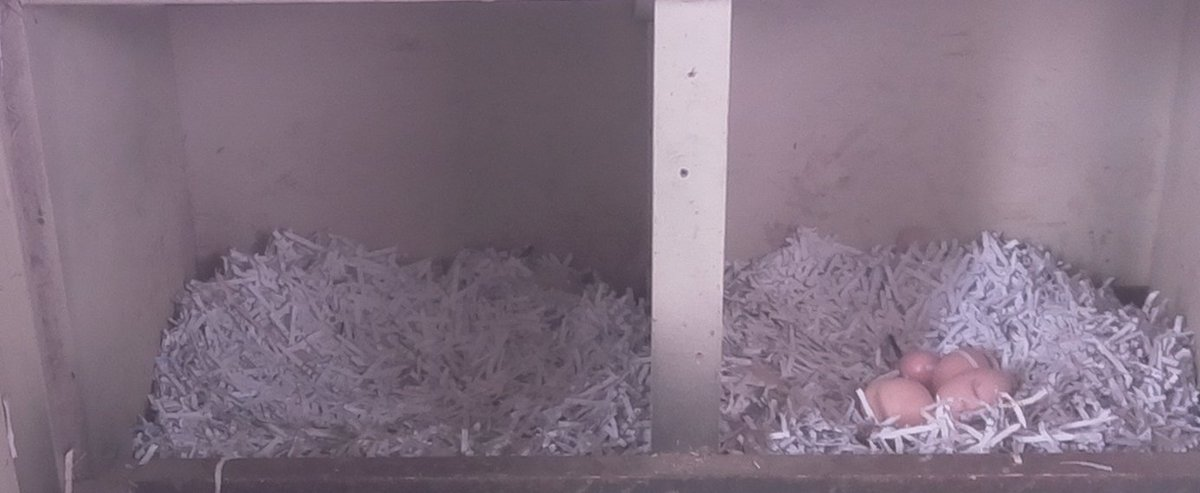egg: (854, 371, 938, 431), (929, 366, 1017, 412), (930, 345, 997, 386), (893, 346, 944, 390)
